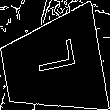L_W: (27, 45, 78, 85)
